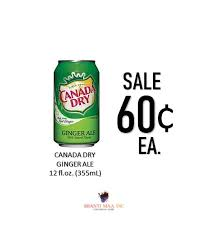Lata: (49, 56, 103, 151)
